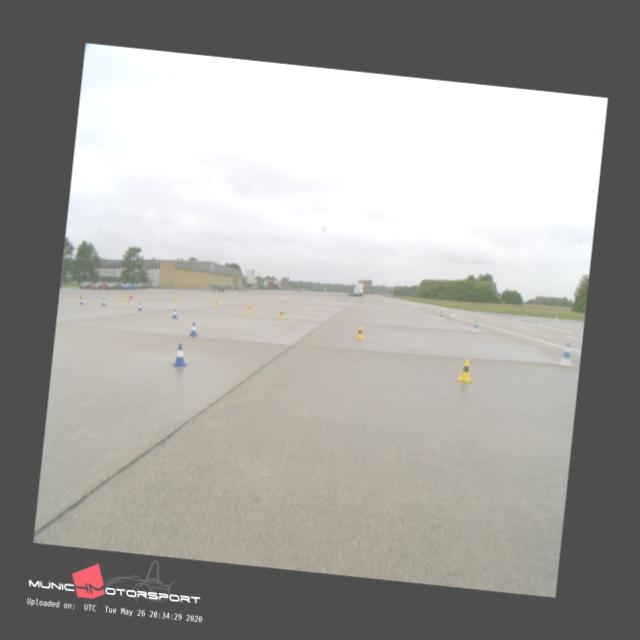blue_cone: (172, 343, 188, 366), (189, 322, 198, 336), (172, 308, 178, 318), (101, 297, 106, 305), (78, 298, 84, 304), (138, 302, 142, 310)
yellow_cone: (456, 358, 472, 381), (356, 325, 364, 338), (278, 309, 284, 318), (247, 304, 252, 311), (214, 300, 218, 306), (174, 296, 178, 302), (122, 294, 126, 299)
